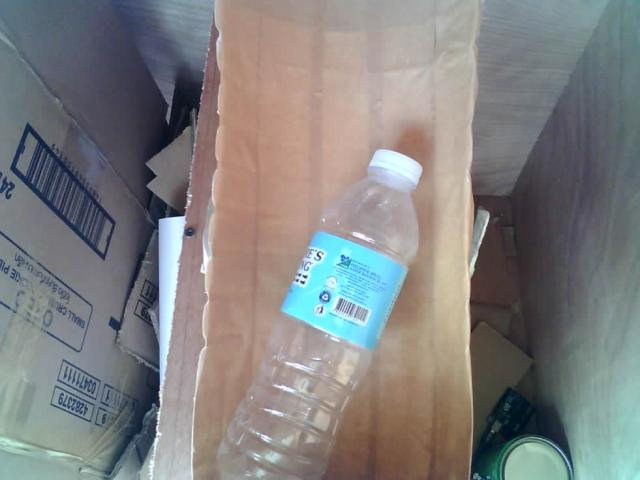small_bottle: (215, 128, 442, 480)
